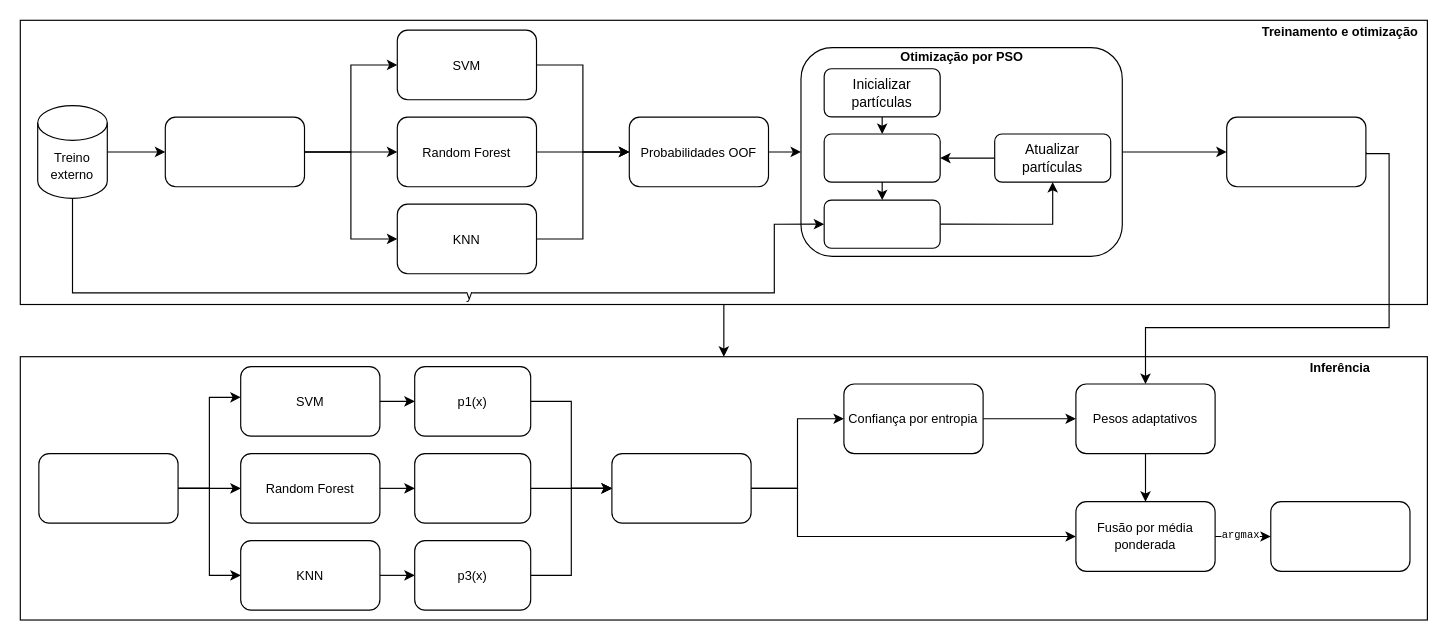
Image size: 1448x640. Some labels were removed from this diagram. Each missing label, with the centre of its shape:
Classe prevista: the point at 1340,536
Coeficientes aprendidos: the point at 1296,151
F1 Macro OOF: the point at 881,223
Fusão candidata: the point at 881,157
p2(x): the point at 472,487
Probabilidade dos especialistas: the point at 681,487
Regsitro novo: the point at 108,487
Validação cruzada interna (3 folds): the point at 234,151
